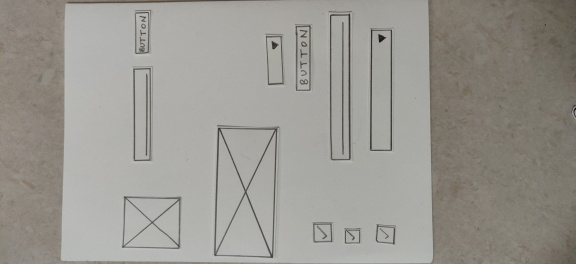button: (294, 24, 313, 90), (133, 10, 152, 54)
checkbox: (313, 221, 333, 243), (375, 223, 396, 243), (341, 229, 362, 246)
dropdown: (367, 28, 394, 154), (263, 33, 286, 87)
img: (210, 125, 276, 259), (120, 193, 183, 251)
text: (326, 11, 353, 160), (131, 66, 153, 161)
